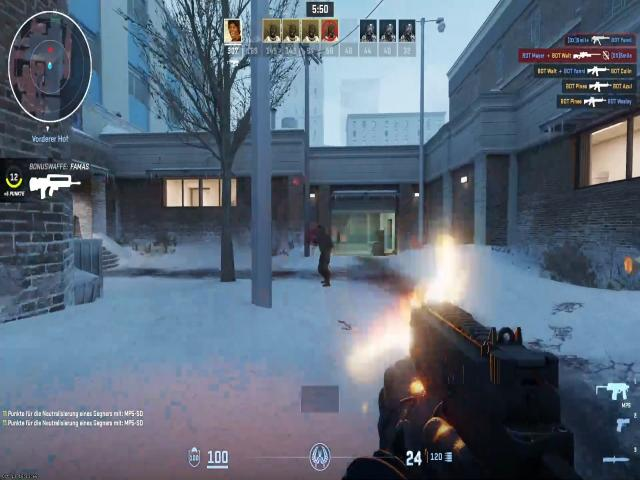CT: (312, 224, 330, 265)
CT-Head: (316, 228, 324, 238)
